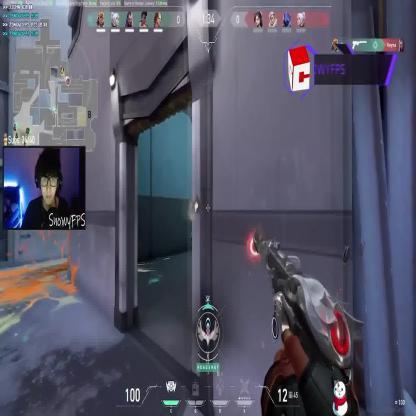enemy: (190, 199, 202, 245)
